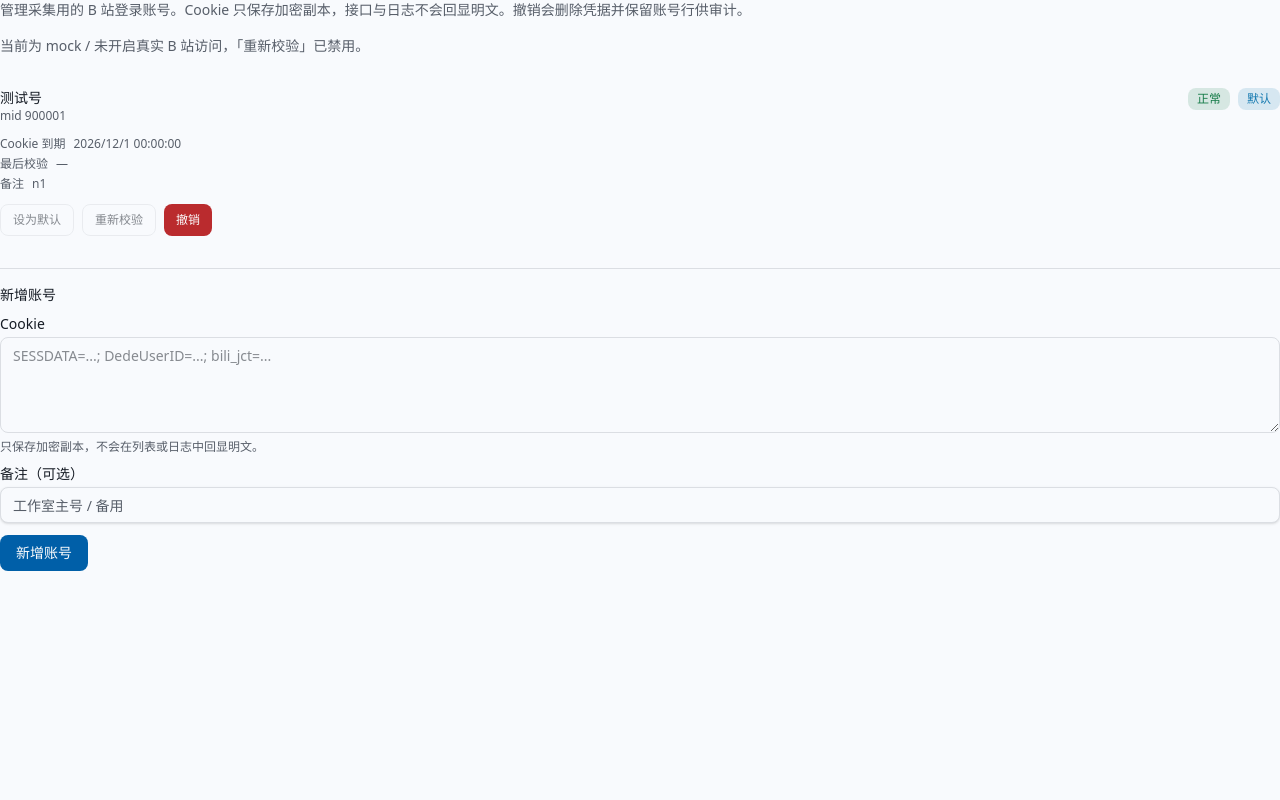
bili accounts panel › lists status, disables verify in mock, and confirms revoke
The image size is (1280, 800).
Expected: the text "测试号" is shown, [0,88,42,107]
Expected: the text with test id "bili-account-status" reads "正常", [1197,90,1221,107]
Click the button with test id "bili-account-revoke" at (188, 220), box [164,204,212,236]
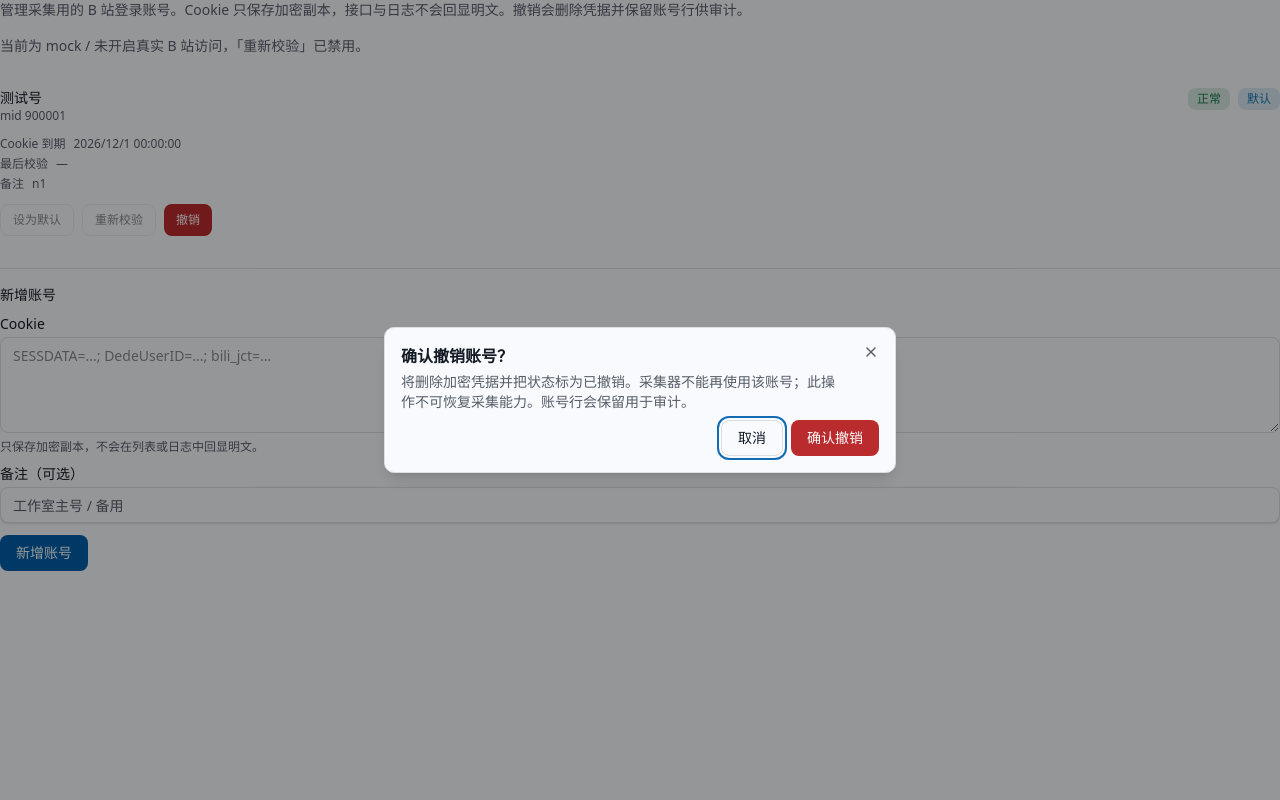
Result: the dialog with test id "bili-account-revoke-dialog" is shown at [384,327,896,473]
Click the button with test id "bili-account-revoke-confirm" at (835, 438), box [791,420,879,456]
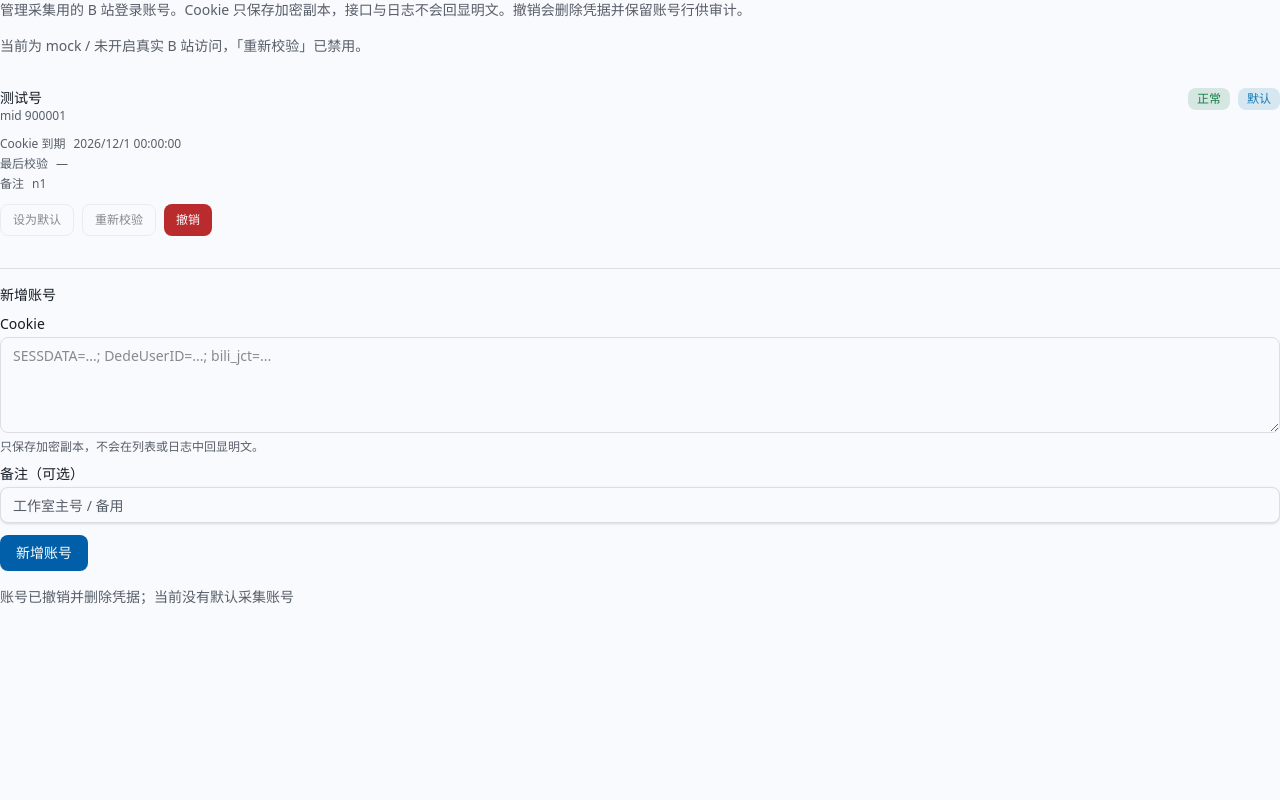
Result: the text "账号已撤销并删除凭据；当前没有默认采集账号" is shown at [0,587,294,606]
